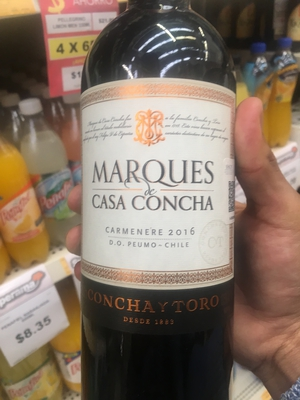marques de casa concha carmenere: (77, 18, 250, 400)
